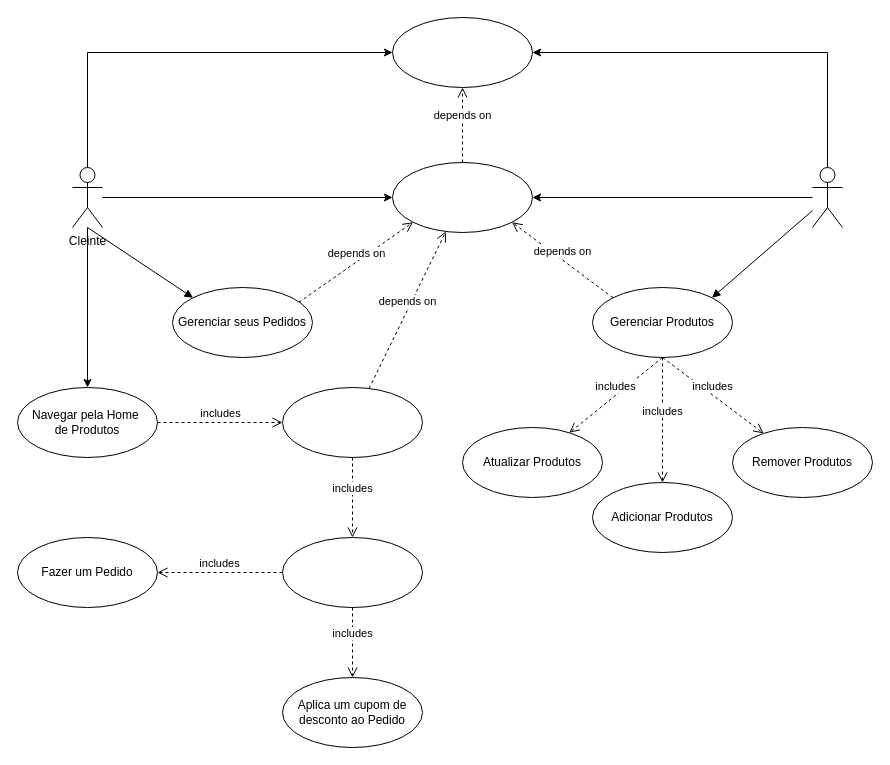
The diagram is 890 pixels wide and 765 high, and some of its shapes have lost their labels. Here are the shapes that lost their labels. From the top down, the centre of each, then its label:
At point (462, 52): "Criar uma Conta (se ainda não tiver)".
At point (462, 197): "Fazer Login".
At point (827, 197): "Funcionário Administrador".
At point (352, 422): "Acessar Detalhes de um Produto".
At point (352, 572): "Adicionar itens ao Carrinho".
